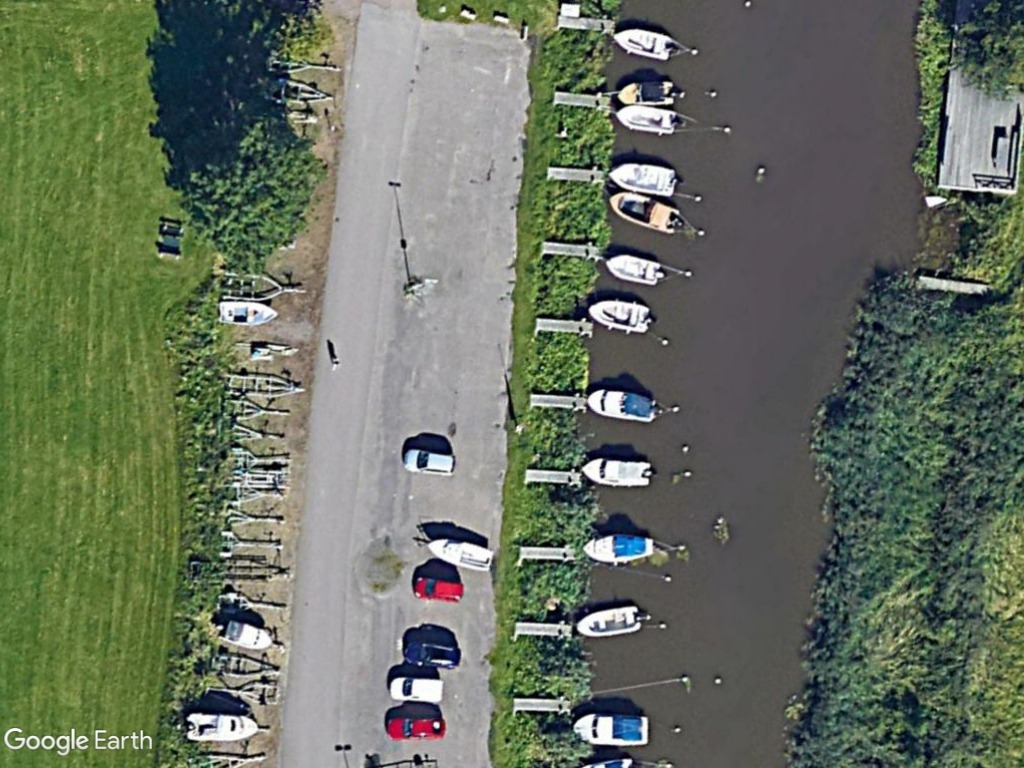boat: (603, 186, 684, 238), (569, 710, 656, 751), (581, 380, 660, 425), (602, 156, 681, 200), (423, 531, 495, 575), (181, 707, 261, 745), (570, 601, 643, 642), (583, 295, 655, 336), (581, 529, 658, 567), (607, 24, 678, 63), (578, 454, 654, 488), (611, 101, 678, 136), (602, 251, 667, 287), (612, 74, 678, 108)
car: (384, 710, 453, 744), (403, 637, 466, 672), (398, 445, 461, 479), (409, 571, 470, 605)
van: (385, 673, 447, 707)
